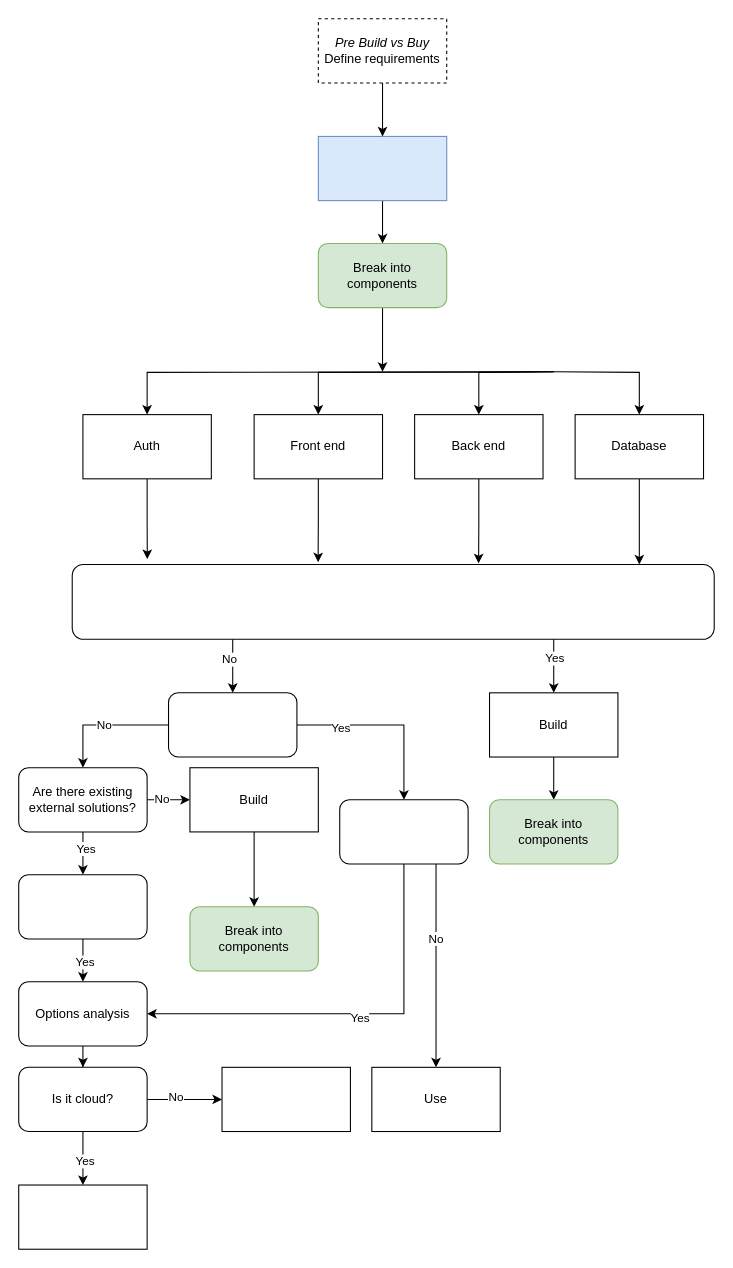
This 733x1268 diagram has some shape labels left out. The shapes that lost their labels are listed below. From the top down, each one's centre as x and y in pixels, then its label:
At (x=382, y=168): "IT Solution".
At (x=392, y=601): "Requirements likely to change?".
At (x=232, y=724): "Are there existing internal solutions that meets your needs?".
At (x=403, y=831): "Does the solution require the purchase of licenses?".
At (x=82, y=906): "Are there extant compliant solutions available?".
At (x=285, y=1099): "Software Onboarding Process".
At (x=82, y=1216): "Cloud Assessment Framework".
